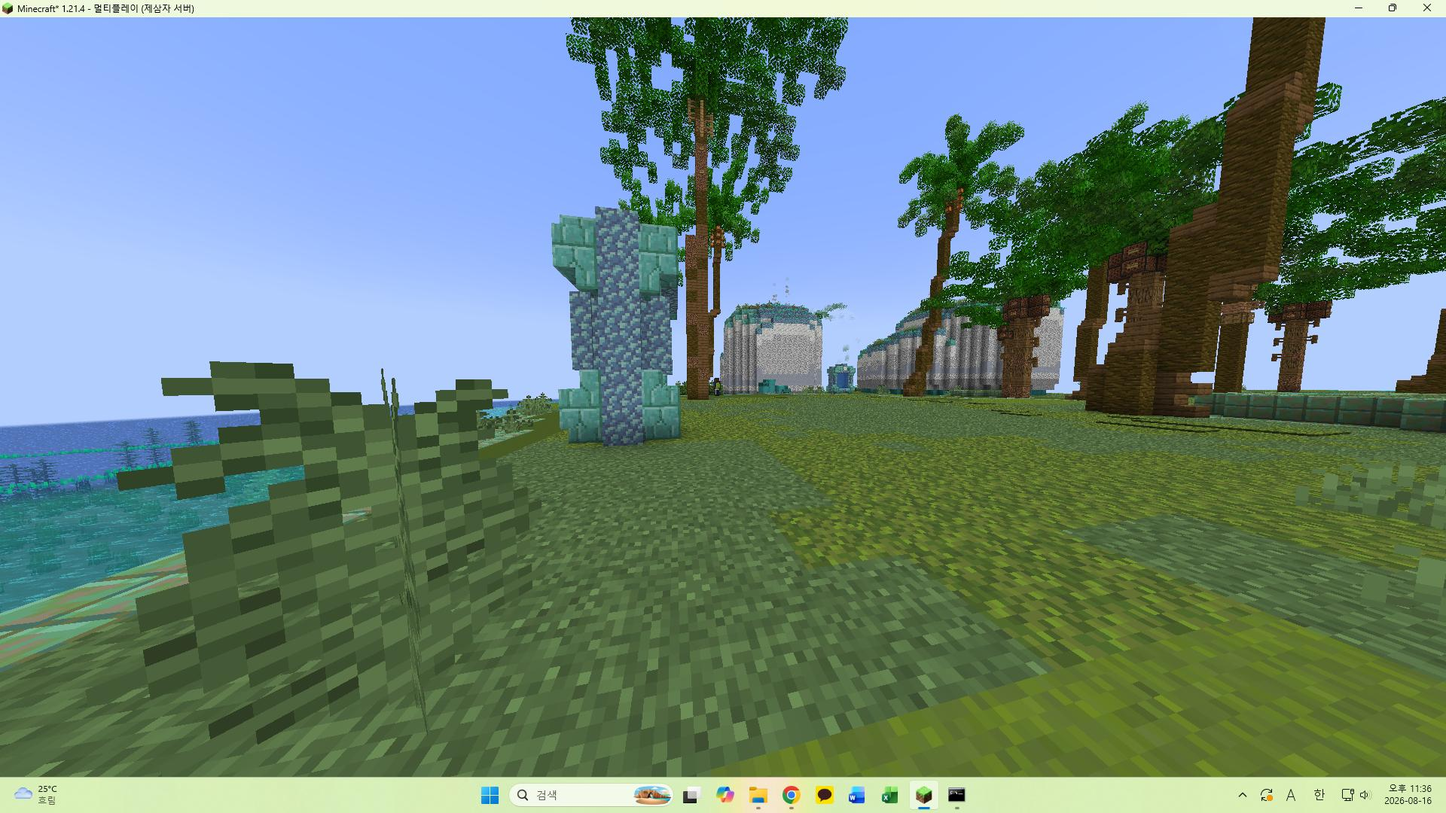Guardian: (712, 379, 719, 394)
